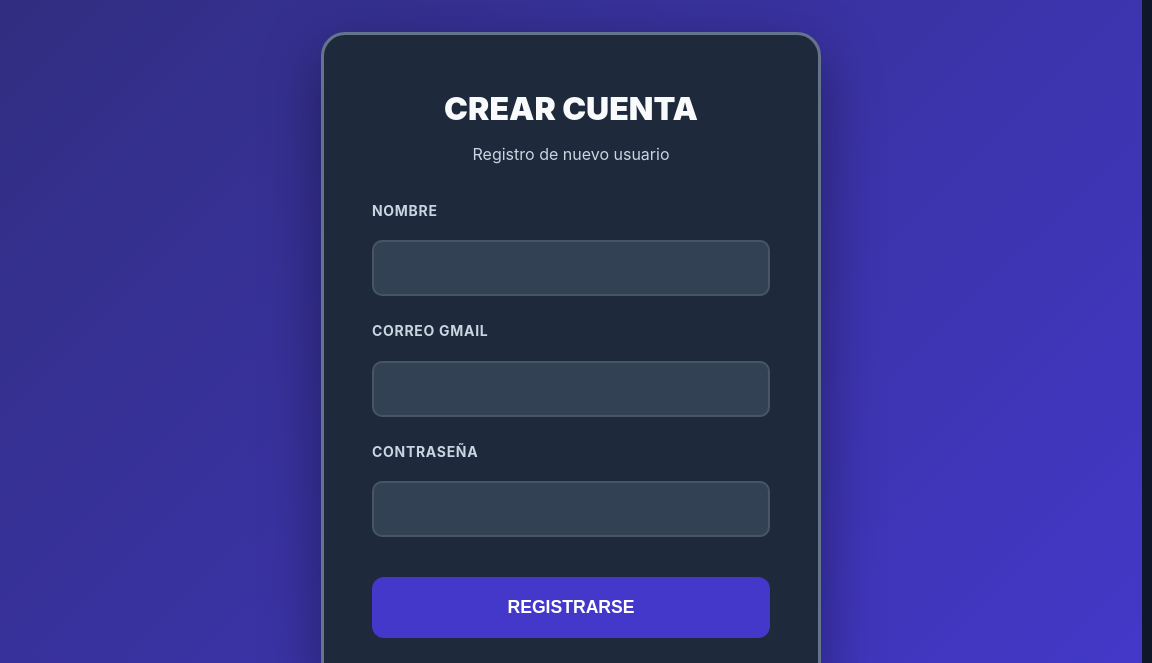
Test: Register Component › shows backend error message when registration fails
The image size is (1152, 663).
Type "Juan Pérez" into the field labelled "Nombre".
click(571, 268); type("Juan Pérez")  # box [372, 240, 770, 296]
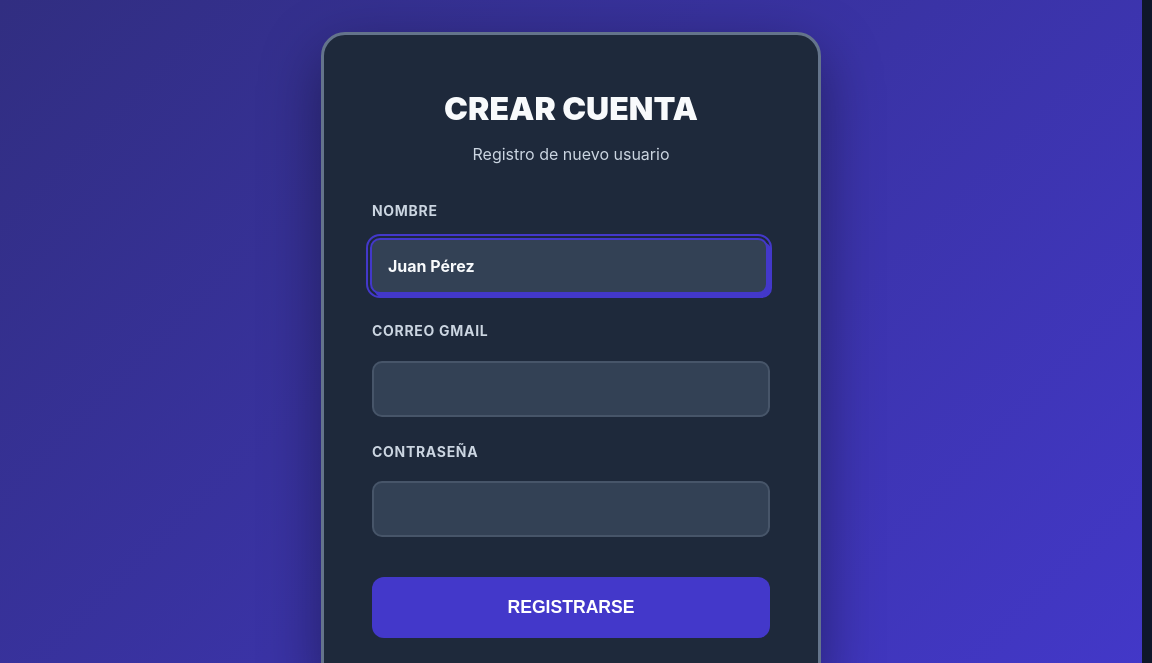
Type "juan@gmail.com" into the field labelled "Correo Gmail".
click(571, 389); type("juan@gmail.com")  # box [372, 361, 770, 417]
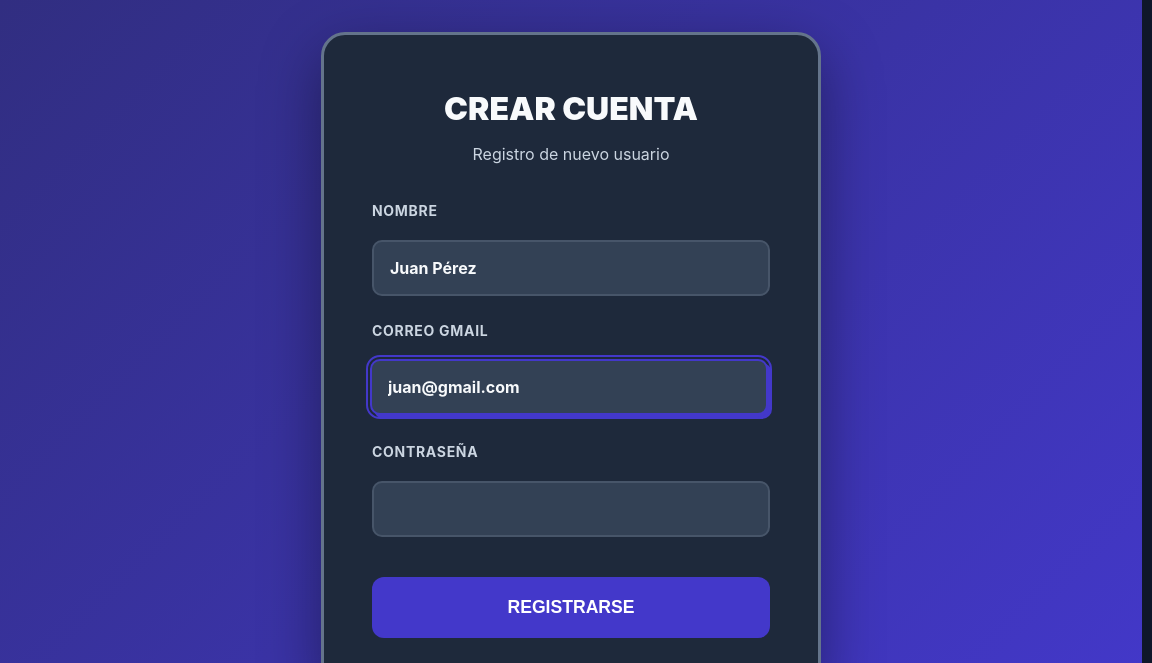
Type "Password123" into the password field labelled "Contraseña".
click(571, 509); type("Password123")  # box [372, 481, 770, 537]
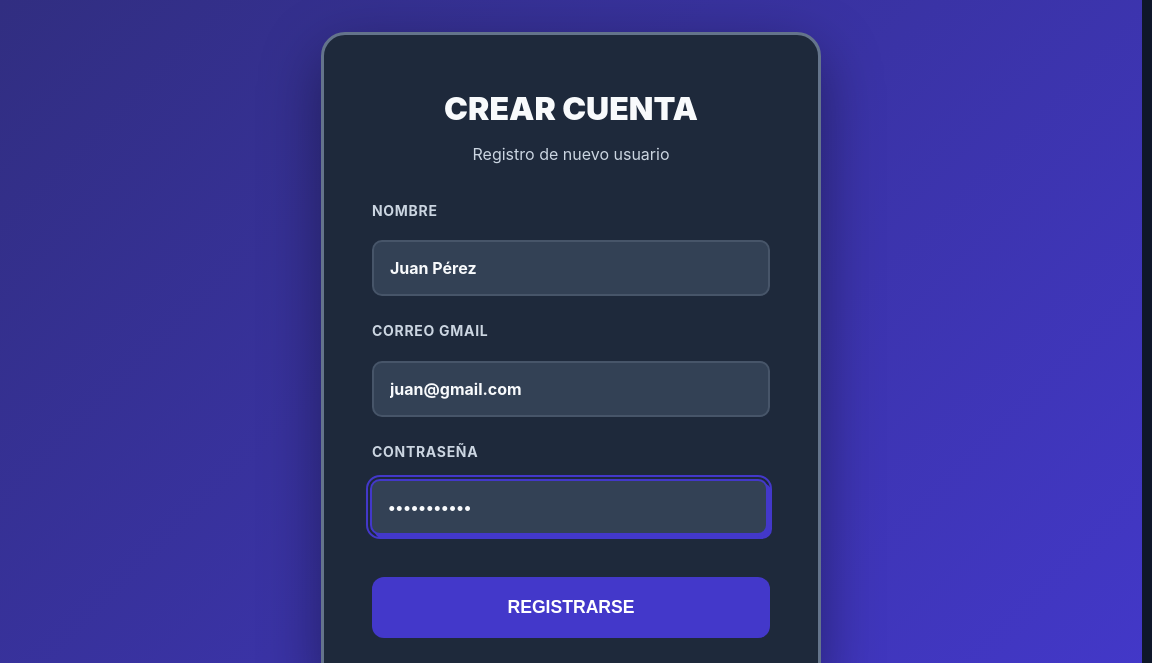
Click the button "Registrarse".
click(571, 608)  # box [372, 577, 770, 638]
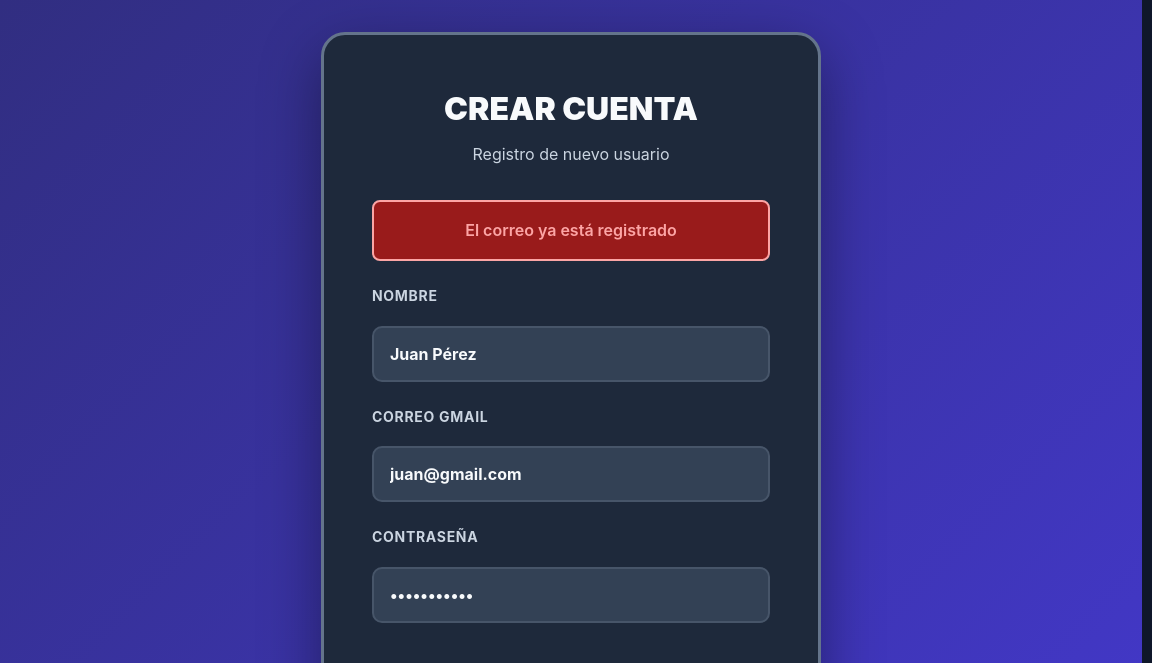
Check: the message reads "El correo ya está registrado", box [465, 220, 677, 240]
